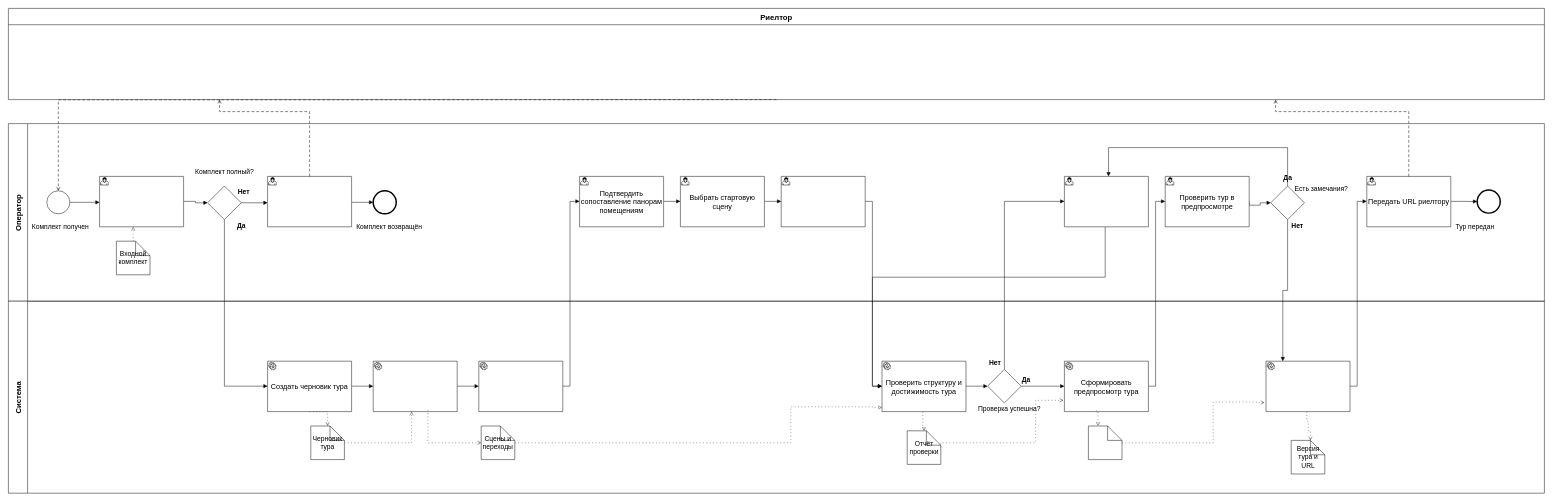
This 1553x502 diagram has some shape labels left out. Each missing label, with the box of its shape:
Вернуть комплект на доработку: (267, 176, 352, 227)
Загрузить панорамы и создать сцены: (373, 361, 457, 412)
Задать переходы между сценами: (781, 176, 865, 227)
Исправить сцены и переходы: (1064, 176, 1148, 227)
Опубликовать проверенную версию и сформировать URL: (1266, 361, 1350, 412)
Предложить сопоставление панорам помещениям: (478, 361, 563, 412)
Предпросмотр: (1088, 426, 1122, 460)
Проверить комплект входных данных: (99, 176, 184, 227)
